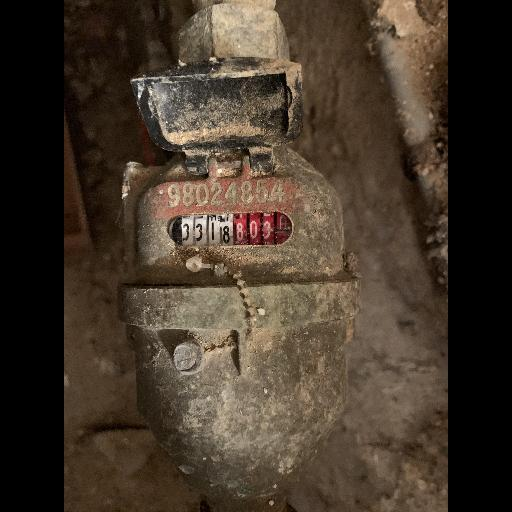0: (277, 212, 291, 244), (249, 213, 261, 246)
1: (208, 215, 220, 246)
3: (182, 215, 195, 246), (262, 212, 274, 245), (195, 214, 207, 246)
8: (235, 213, 247, 245), (222, 214, 233, 246)
border_water_meter_number: (169, 212, 294, 248)
